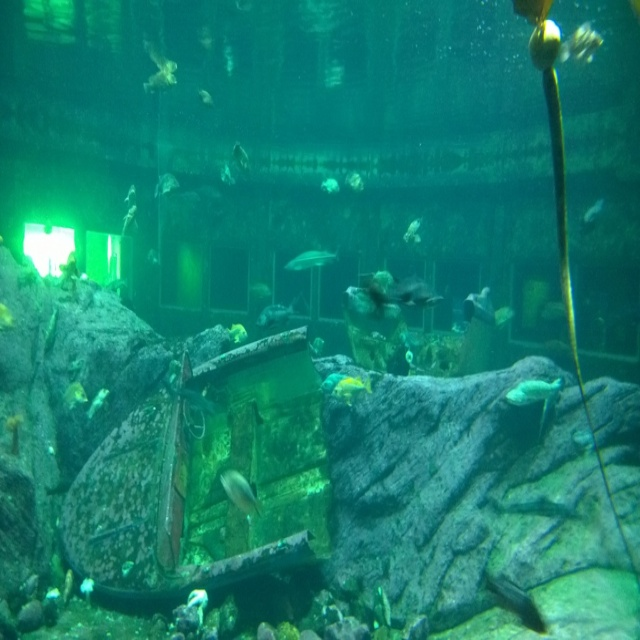Fish: (344, 283, 431, 319), (222, 469, 266, 512), (284, 241, 342, 272), (465, 285, 497, 326), (143, 65, 180, 96), (330, 376, 370, 399), (154, 172, 182, 200), (584, 192, 606, 226), (258, 304, 292, 325), (61, 380, 85, 408), (88, 390, 111, 419), (121, 200, 138, 238), (230, 143, 249, 177), (125, 184, 138, 232), (402, 222, 422, 243), (320, 372, 341, 390), (199, 87, 216, 109), (228, 325, 251, 341), (345, 171, 364, 189), (321, 178, 340, 193), (222, 162, 233, 186)
